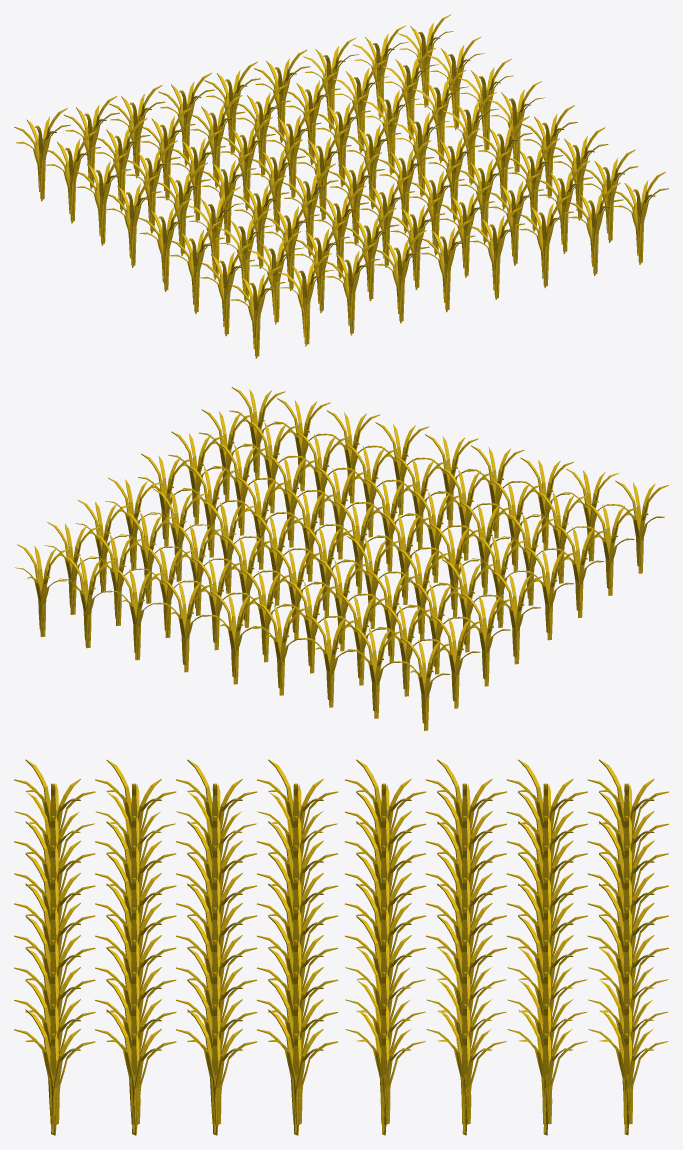
The model's file is Rice.fbx.
3 renders of one model, top to bottom at view 1: azimuth 30°, elevation 25°; view 2: azimuth 150°, elevation 25°; view 3: azimuth 270°, elevation 25°, orthographic. The views are drawn at different scales.
Parts seen in each view (by area): view 1: Rice; view 2: Rice; view 3: Rice.
Boxes of the visible parts, bbox=[...] form: Rice: bbox=[14, 14, 668, 358]; Rice: bbox=[15, 387, 668, 730]; Rice: bbox=[14, 759, 668, 1135].
Size of the model in its own units: 527 by 100 by 515.
